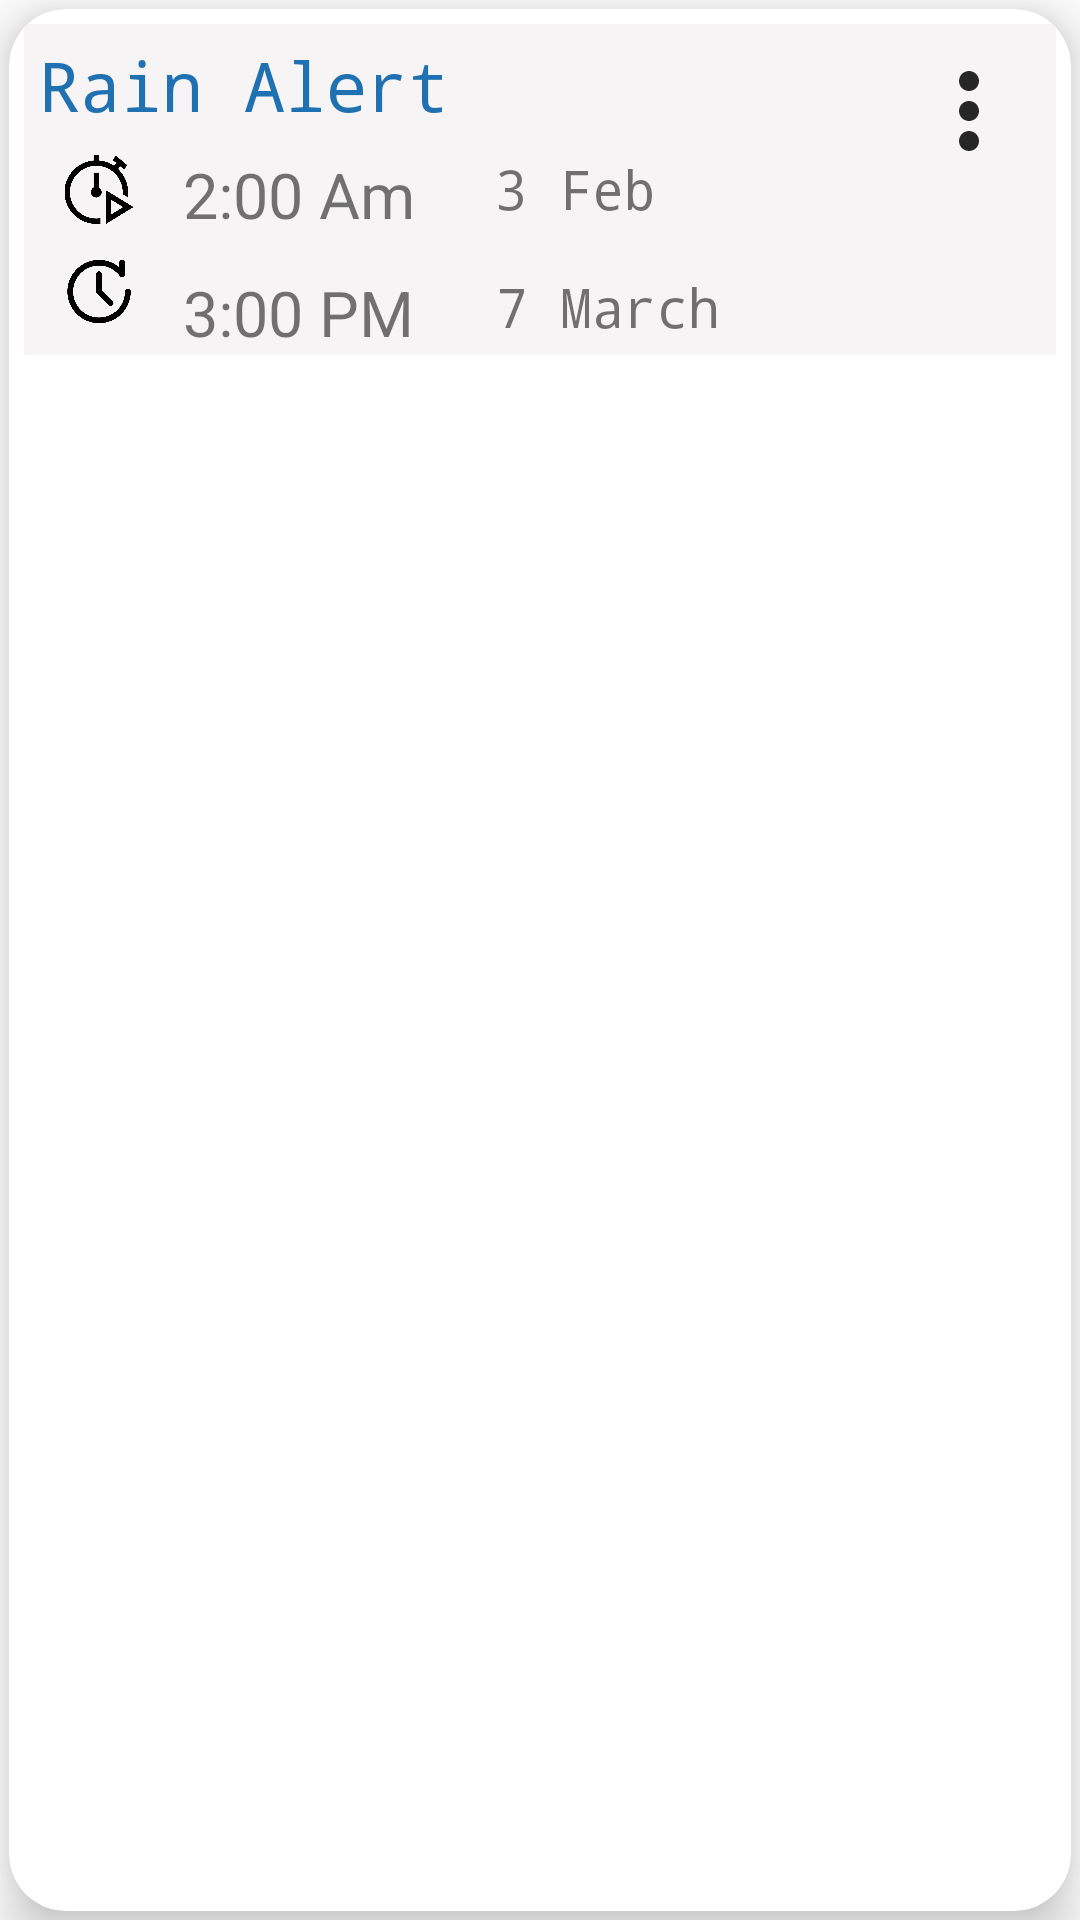

Locate icon controls on the screen. Image size 1080px×1920px, boxes as rect(x1, y1, x2, y2).
more: rect(959, 71, 979, 151)
